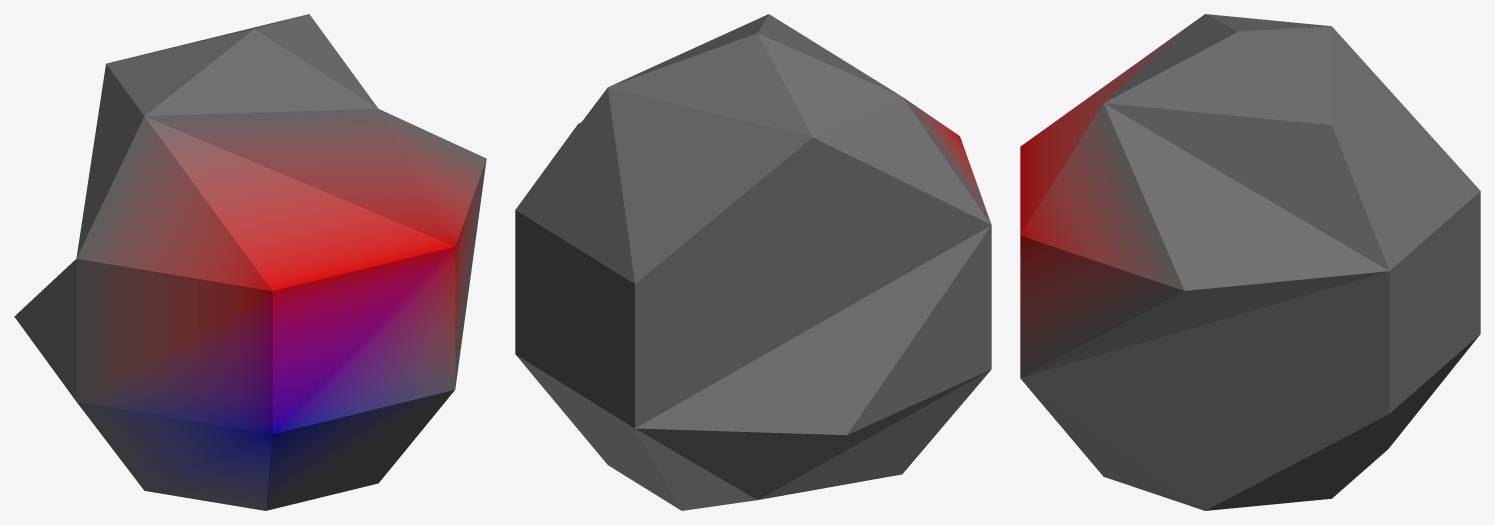
File: before_retriangulation_6.obj
3 renders of one model, left to right at view 1: azimuth 30°, elevation 25°; view 2: azimuth 150°, elevation 25°; view 3: azimuth 270°, elevation 25°, orthographic.
Bounding box in the file's own units: 1.85 × 2 × 1.81.
